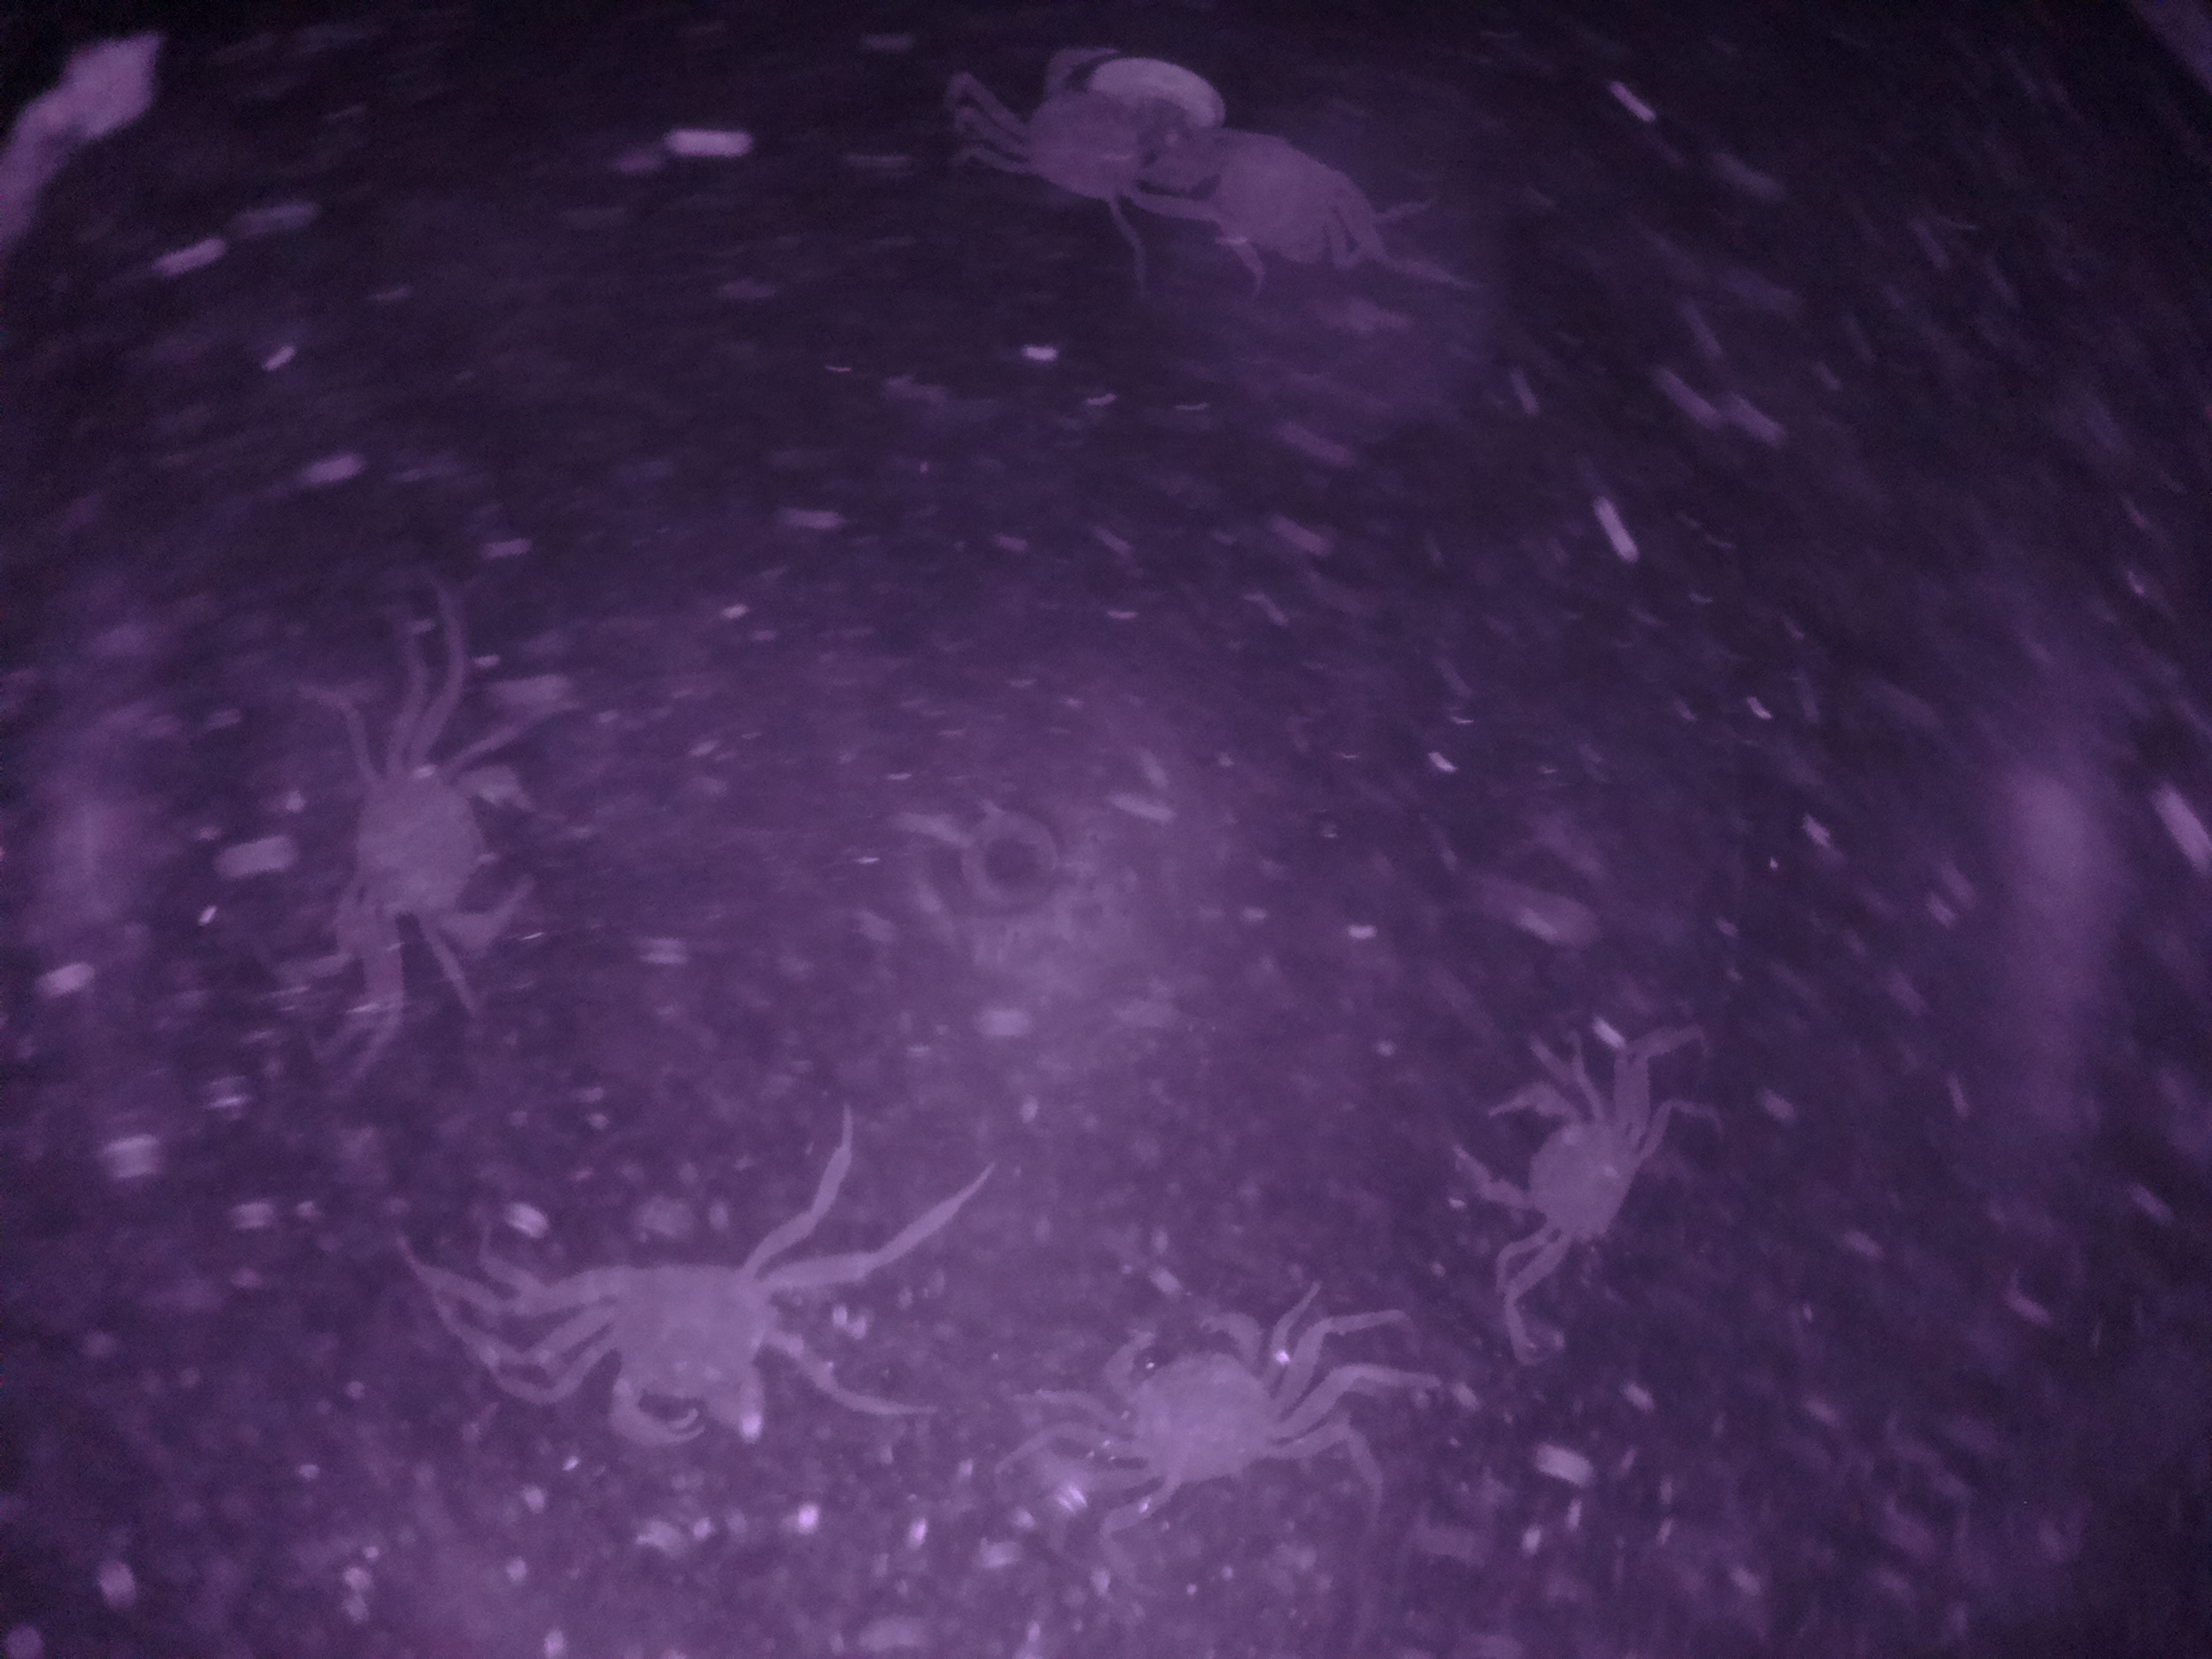Crab: (1413, 1054, 1700, 1288), (523, 1227, 820, 1452), (1043, 1295, 1332, 1509), (981, 44, 1214, 232)
